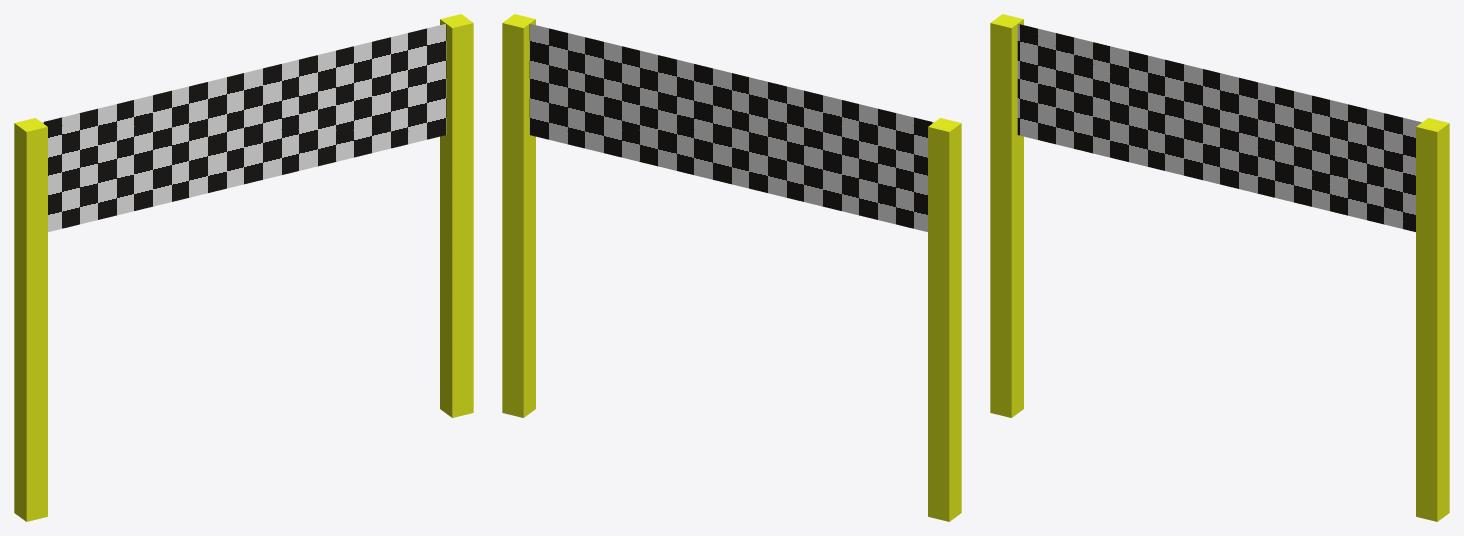
The model's file is demo-flag.glb.
3 views of the same model, side by side, from view 1: azimuth 30°, elevation 25°; view 2: azimuth 150°, elevation 25°; view 3: azimuth 330°, elevation 25° (orthographic).
Visible parts, largest first — view 1: Plane, Cube; view 2: Plane, Cube; view 3: Plane, Cube.
Part boxes in pixels (bbox=[...]): Plane: bbox=[42, 24, 446, 231]; Cube: bbox=[14, 14, 473, 521]; Plane: bbox=[529, 24, 933, 231]; Cube: bbox=[502, 14, 961, 521]; Plane: bbox=[1017, 24, 1421, 231]; Cube: bbox=[990, 14, 1449, 521].
Size of the model in its own units: 8.4 by 7 by 0.4.
2 materials, 1 textured.
